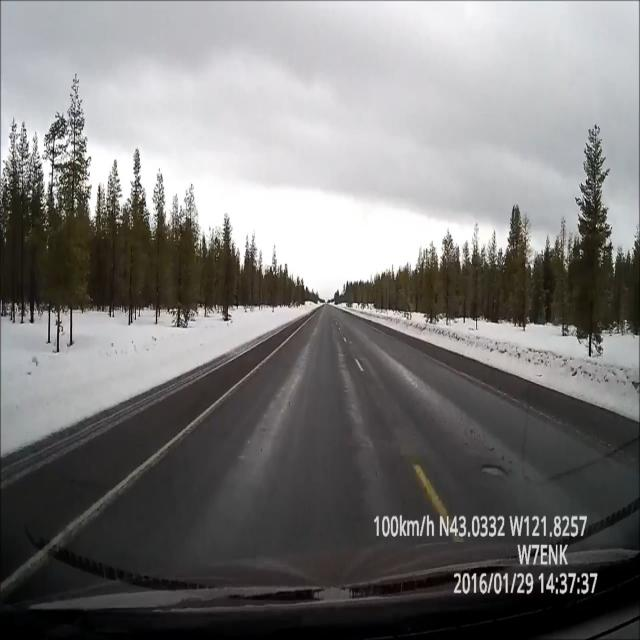Pothole: (478, 454, 513, 485)
